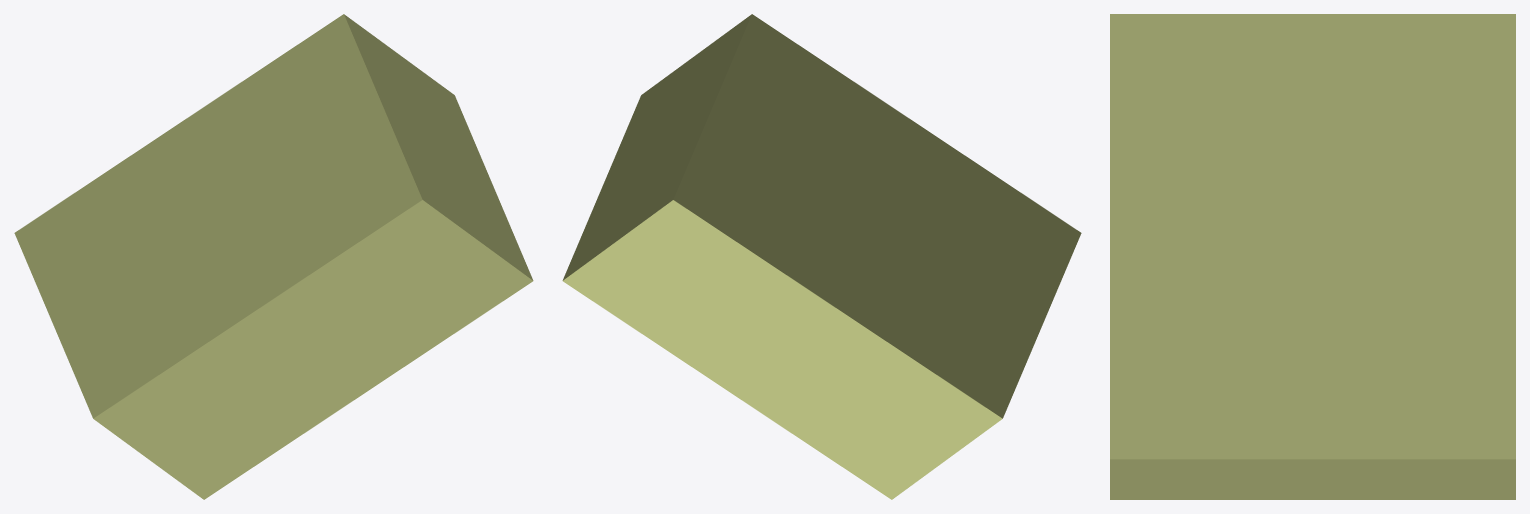
3 views of the same model, side by side, from view 1: azimuth 30°, elevation 25°; view 2: azimuth 150°, elevation 25°; view 3: azimuth 270°, elevation 25° (orthographic). The views are drawn at different scales.
Parts seen in each view (by area): view 1: 0_1_0_2_0_0_3_2_1_3; view 2: 0_1_0_2_0_0_3_2_1_3; view 3: 0_1_0_2_0_0_3_2_1_3.
Boxes of the visible parts, bbox=[...] form: 0_1_0_2_0_0_3_2_1_3: bbox=[14, 14, 533, 499]; 0_1_0_2_0_0_3_2_1_3: bbox=[562, 14, 1081, 499]; 0_1_0_2_0_0_3_2_1_3: bbox=[1110, 14, 1515, 499].
Size of the model in its own units: 12.75 by 10.25 by 6.
